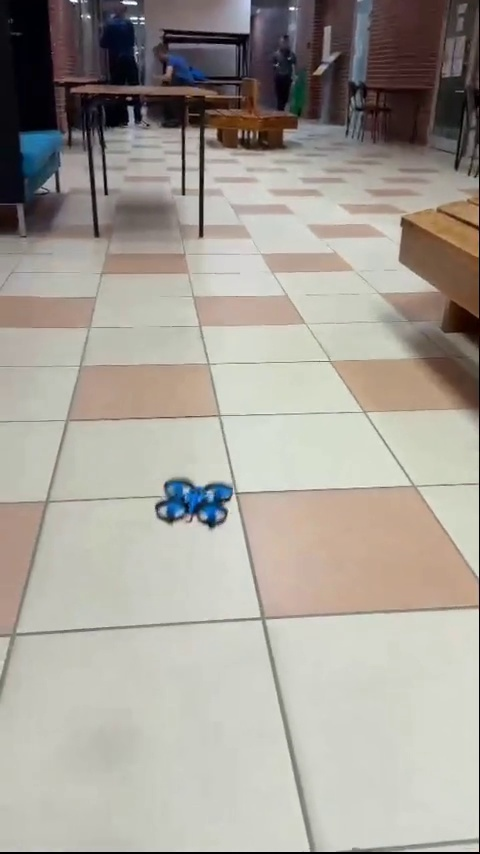drone: (159, 476, 228, 527)
no vest: (101, 6, 144, 96), (152, 36, 213, 84), (267, 30, 301, 114)
